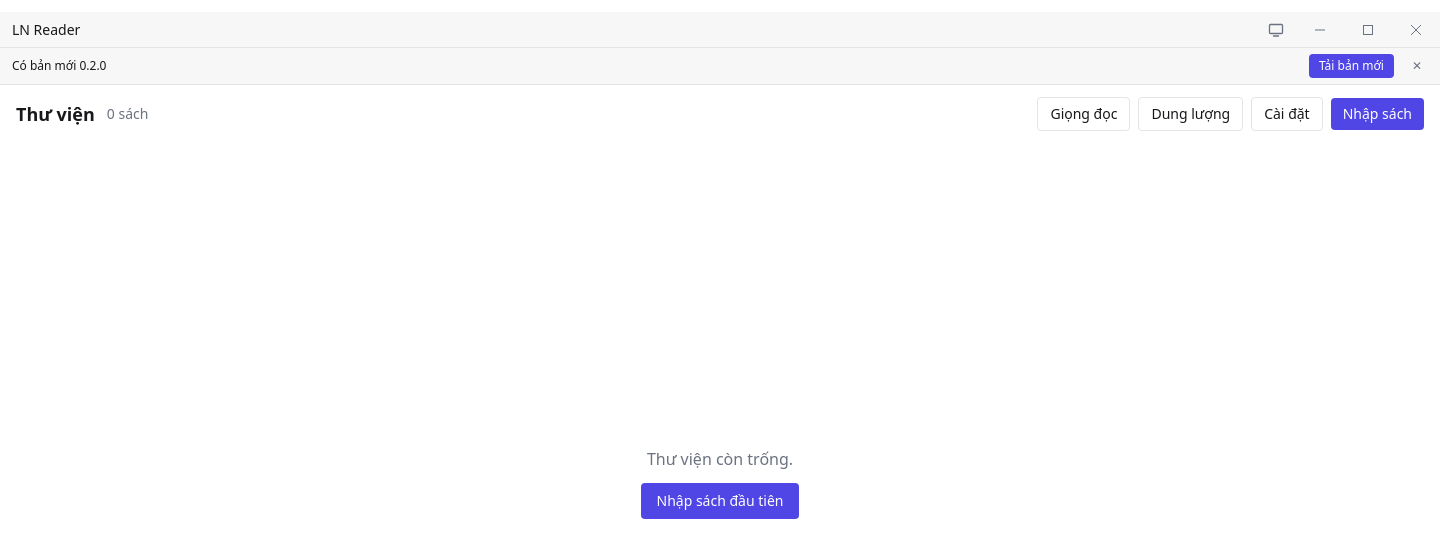
dải báo cập nhật (P5.5c) › đóng dải thì nó biến mất mà không ghi gì xuống settings
Check: the element with test id "update-banner" is shown, box [0,48,1440,85]
Click the button with test id "update-banner-dismiss" at (1417, 66), box [1406,54,1428,78]
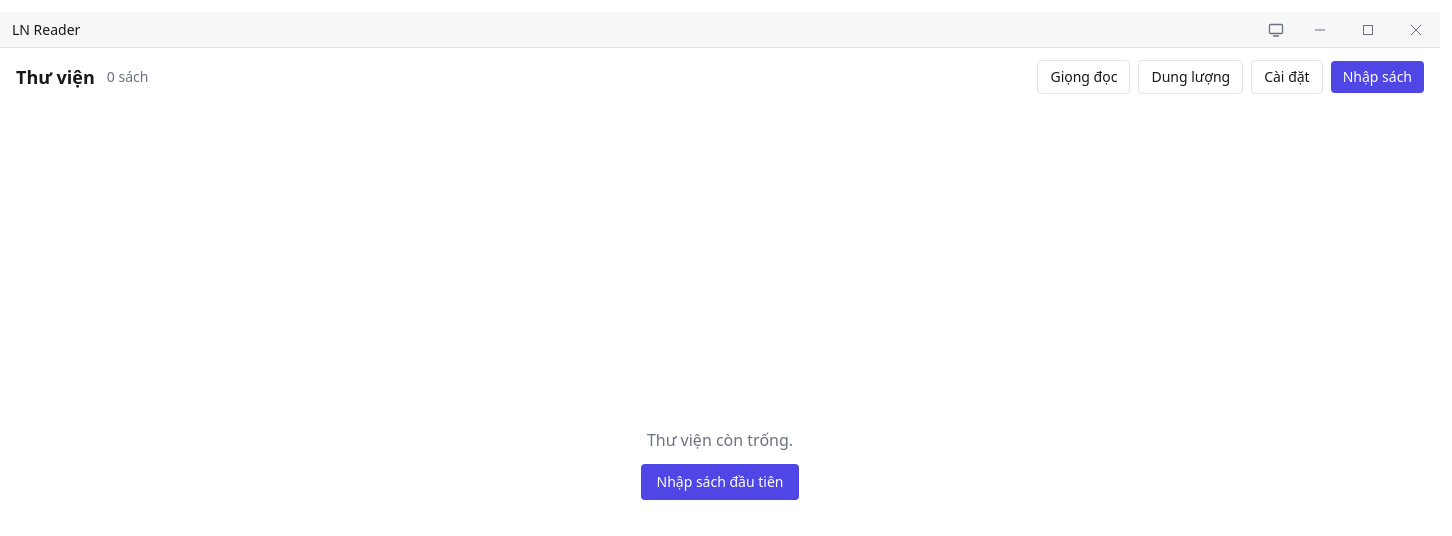
Check: the element with test id "update-banner" is gone
